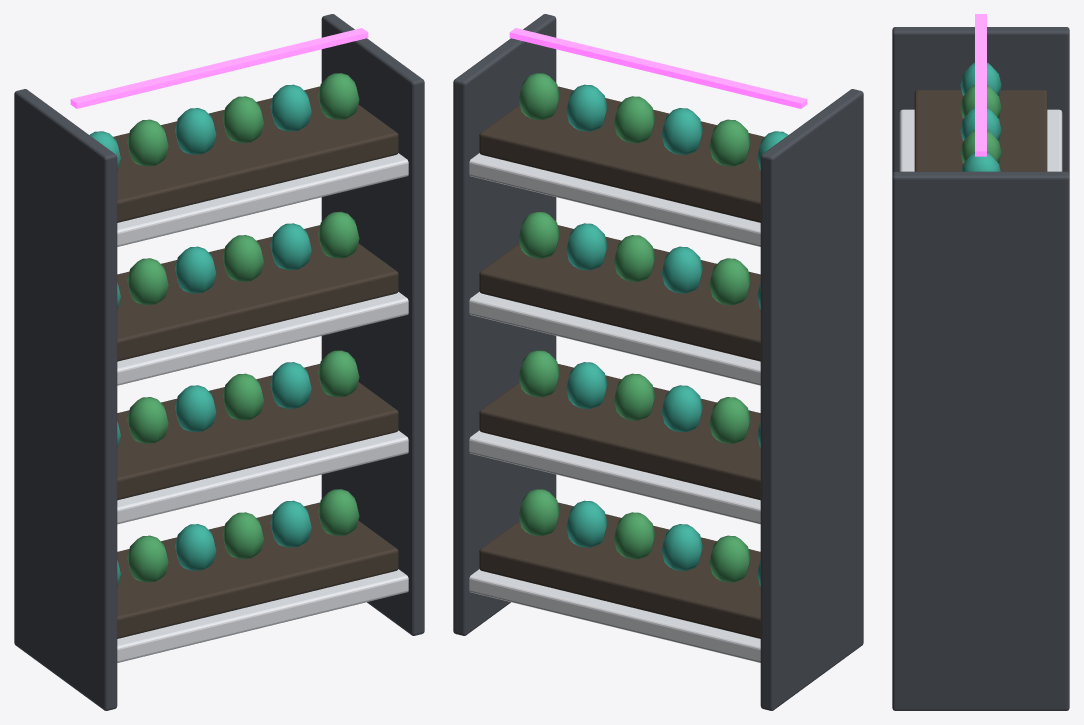
The model's file is hydroponic_bed_rack_tall.glb.
The picture shows the model from 3 angles, left to right: view 1: azimuth 30°, elevation 25°; view 2: azimuth 150°, elevation 25°; view 3: azimuth 270°, elevation 25°; orthographic projection. The views are drawn at different scales.
Visible parts, largest first — view 1: GD_hydroponic_bed_rack_tall__m0, GD_hydroponic_bed_rack_tall__m3, GD_hydroponic_bed_rack_tall__m2, GD_hydroponic_bed_rack_tall__m1, GD_hydroponic_bed_rack_tall__m5, GD_hydroponic_bed_rack_tall__m4; view 2: GD_hydroponic_bed_rack_tall__m0, GD_hydroponic_bed_rack_tall__m3, GD_hydroponic_bed_rack_tall__m2, GD_hydroponic_bed_rack_tall__m1, GD_hydroponic_bed_rack_tall__m5, GD_hydroponic_bed_rack_tall__m4; view 3: GD_hydroponic_bed_rack_tall__m0, GD_hydroponic_bed_rack_tall__m3, GD_hydroponic_bed_rack_tall__m2, GD_hydroponic_bed_rack_tall__m5, GD_hydroponic_bed_rack_tall__m4, GD_hydroponic_bed_rack_tall__m1.
Part boxes in pixels (x1,y1,x2,y2): GD_hydroponic_bed_rack_tall__m0: [14, 14, 424, 710]; GD_hydroponic_bed_rack_tall__m3: [113, 86, 398, 638]; GD_hydroponic_bed_rack_tall__m2: [117, 153, 408, 662]; GD_hydroponic_bed_rack_tall__m1: [127, 73, 359, 582]; GD_hydroponic_bed_rack_tall__m5: [89, 84, 311, 585]; GD_hydroponic_bed_rack_tall__m4: [70, 28, 368, 108]; GD_hydroponic_bed_rack_tall__m0: [453, 14, 863, 710]; GD_hydroponic_bed_rack_tall__m3: [479, 86, 764, 638]; GD_hydroponic_bed_rack_tall__m2: [469, 153, 760, 662]; GD_hydroponic_bed_rack_tall__m1: [518, 73, 750, 582]; GD_hydroponic_bed_rack_tall__m5: [566, 84, 788, 585]; GD_hydroponic_bed_rack_tall__m4: [509, 28, 807, 108]; GD_hydroponic_bed_rack_tall__m0: [892, 27, 1069, 710]; GD_hydroponic_bed_rack_tall__m3: [914, 90, 1047, 171]; GD_hydroponic_bed_rack_tall__m2: [899, 109, 1062, 171]; GD_hydroponic_bed_rack_tall__m5: [960, 62, 1001, 171]; GD_hydroponic_bed_rack_tall__m4: [975, 14, 986, 156]; GD_hydroponic_bed_rack_tall__m1: [960, 85, 1001, 163].
Size of the model in its own units: 1.21 by 2.07 by 0.6.
